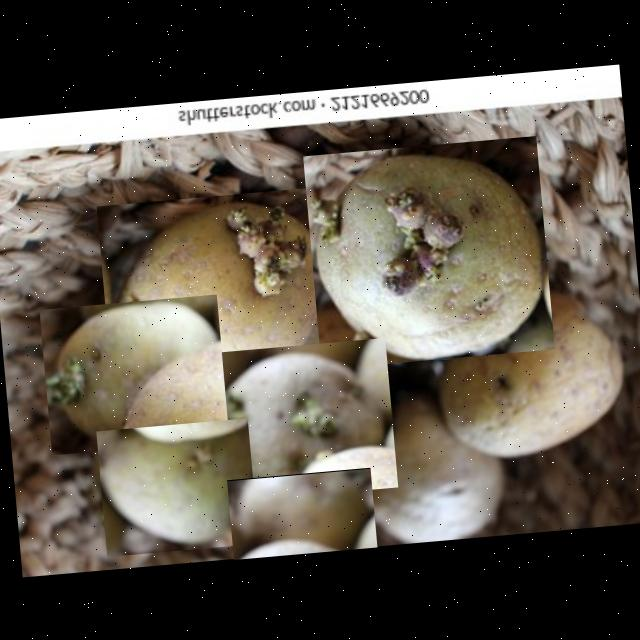Sprouted potato: (302, 134, 554, 368), (95, 186, 334, 410), (425, 274, 637, 466), (208, 336, 396, 502), (38, 292, 228, 454), (351, 374, 518, 544), (95, 416, 257, 556), (226, 466, 376, 558)
